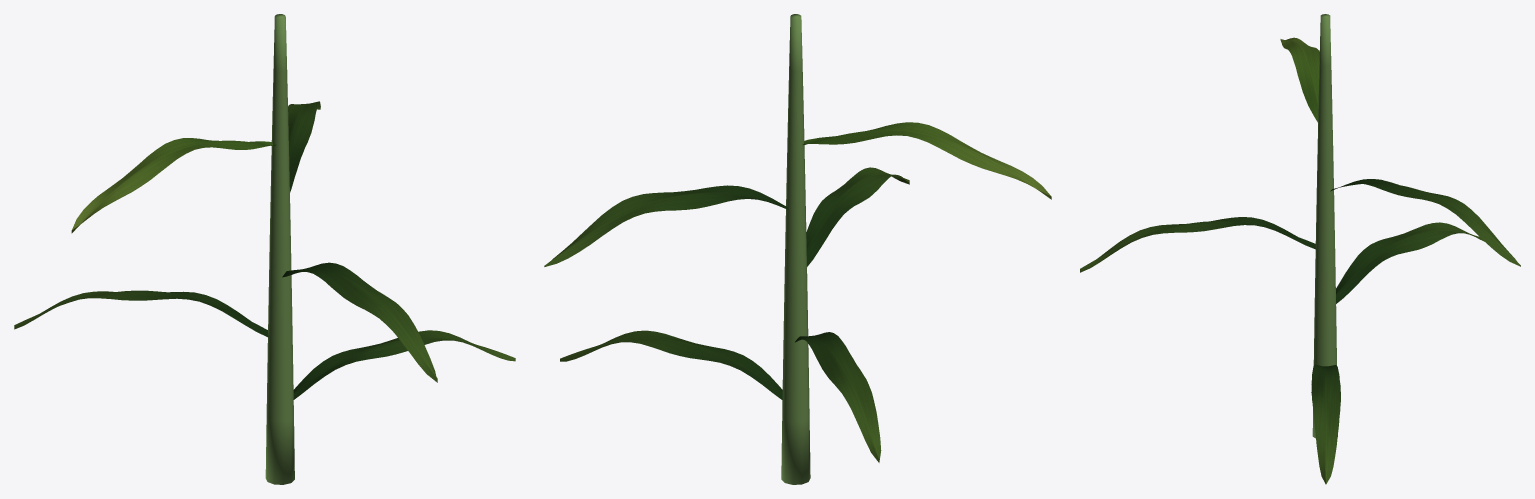
File: lavender-04.glb
3 views of the same model, side by side, from view 1: azimuth 30°, elevation 25°; view 2: azimuth 150°, elevation 25°; view 3: azimuth 270°, elevation 25° (orthographic). The views are drawn at different scales.
Parts seen in each view (by area): view 1: lavender_stage_04_stem_fibres.006, lavender_stage_04_leaf_veins.006, lavender_stage_04_young_leaf.006; view 2: lavender_stage_04_leaf_veins.006, lavender_stage_04_stem_fibres.006, lavender_stage_04_young_leaf.006; view 3: lavender_stage_04_leaf_veins.006, lavender_stage_04_stem_fibres.006, lavender_stage_04_young_leaf.006.
Boxes of the visible parts, <box> form: lavender_stage_04_stem_fibres.006: <box>265,14,294,484</box>; lavender_stage_04_leaf_veins.006: <box>14,101,515,399</box>; lavender_stage_04_young_leaf.006: <box>71,138,276,233</box>; lavender_stage_04_leaf_veins.006: <box>544,167,909,462</box>; lavender_stage_04_stem_fibres.006: <box>781,14,810,484</box>; lavender_stage_04_young_leaf.006: <box>802,122,1051,199</box>; lavender_stage_04_leaf_veins.006: <box>1080,179,1520,484</box>; lavender_stage_04_stem_fibres.006: <box>1312,14,1337,438</box>; lavender_stage_04_young_leaf.006: <box>1280,37,1319,122</box>.
Bounding box in the file's own units: 0.1469 × 0.1388 × 0.1324.
Materials: 3 (2 with a texture image).
